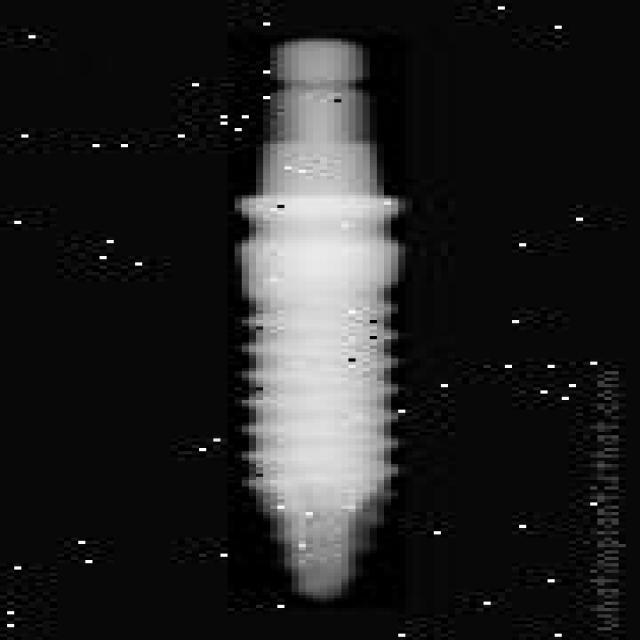Leone Implant: (228, 35, 405, 608)
